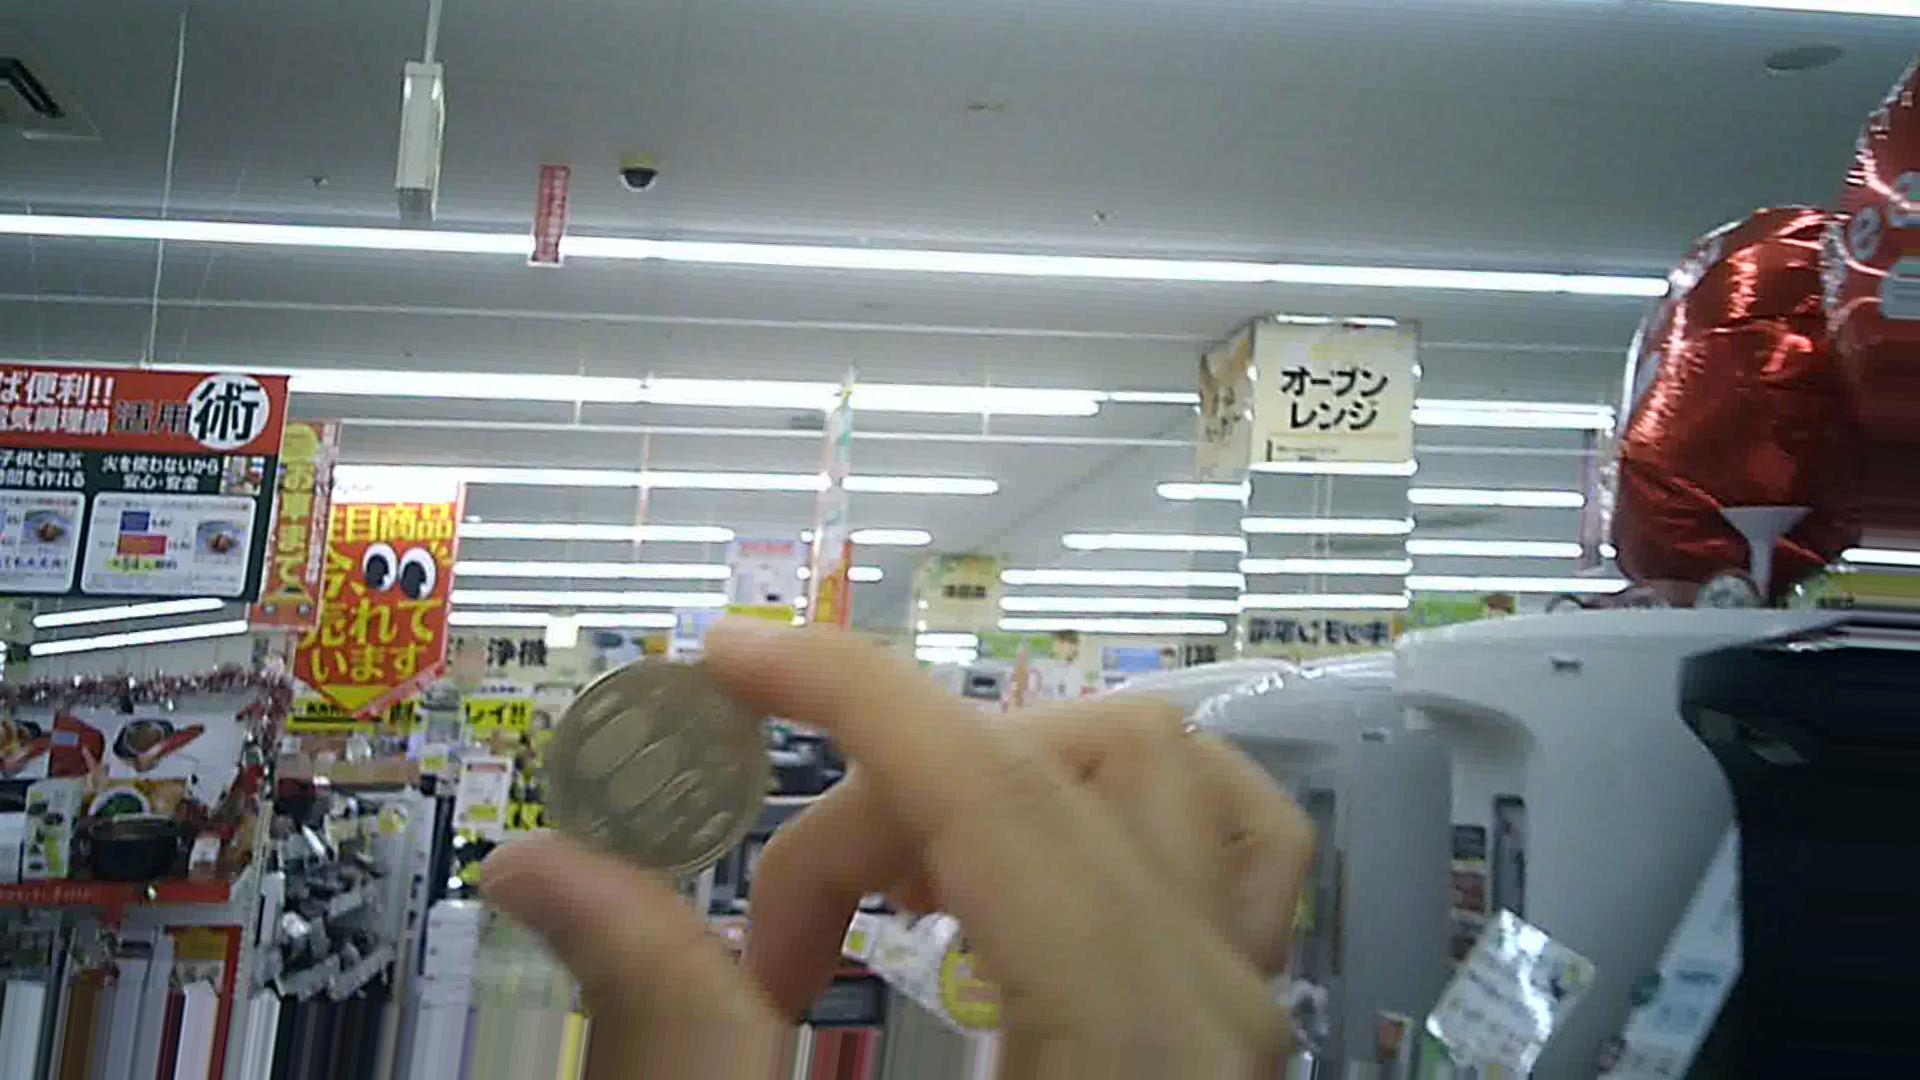500 Yen: (550, 657, 785, 895)
